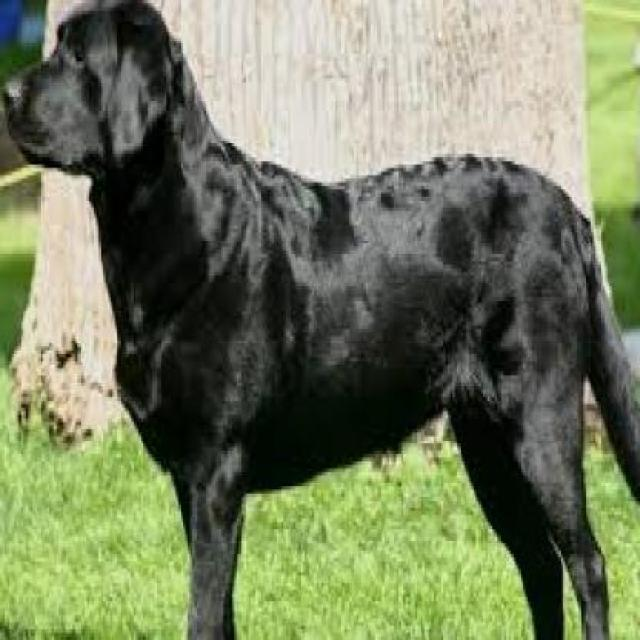Dog: (0, 3, 638, 637)
